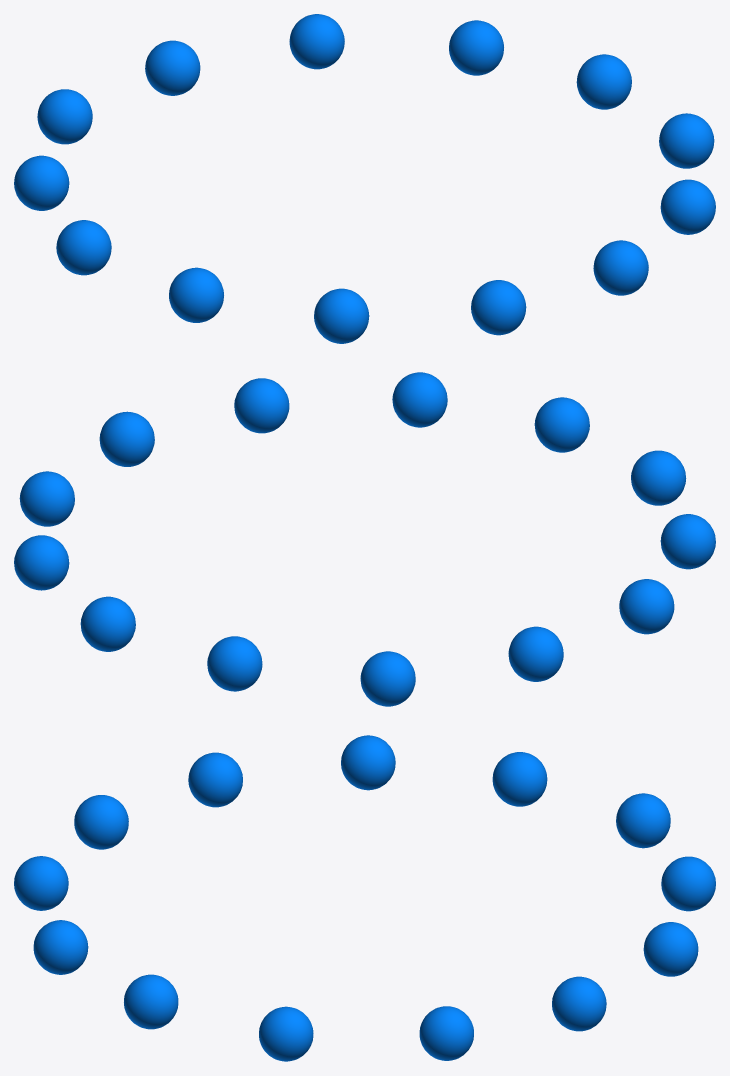
The picture shows the model from 3 angles, top to bottom: view 1: azimuth 30°, elevation 25°; view 2: azimuth 150°, elevation 25°; view 3: azimuth 270°, elevation 25°; orthographic projection.
Visible parts, largest first — view 1: Sphere047; view 2: Sphere047; view 3: Sphere047.
Part boxes in pixels (x1,y1,x2,y2): Sphere047: (14, 14, 715, 343); Sphere047: (14, 372, 715, 706); Sphere047: (14, 735, 715, 1061).
Size of the model in its own units: 104 by 8.22 by 105.
